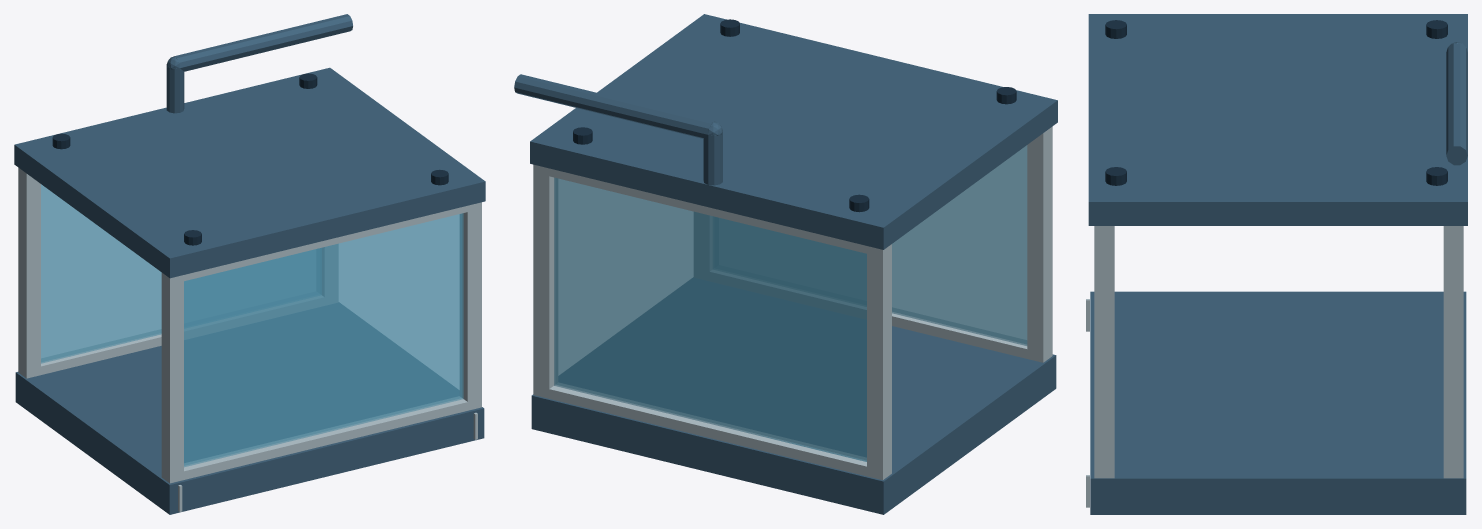
File: 10_L72_TransparentVacuumLoadLock.fbx
3 renders of one model, left to right at view 1: azimuth 30°, elevation 25°; view 2: azimuth 150°, elevation 25°; view 3: azimuth 270°, elevation 25°, orthographic. The views are drawn at different scales.
Parts seen in each view (by area): view 1: TransparentVacuumLoadLock; view 2: TransparentVacuumLoadLock; view 3: TransparentVacuumLoadLock.
Part boxes in pixels (x1,y1,x2,y2): TransparentVacuumLoadLock: (14, 14, 485, 514); TransparentVacuumLoadLock: (514, 14, 1057, 514); TransparentVacuumLoadLock: (1086, 14, 1467, 514).
Bounding box in the file's own units: 278 × 250 × 229.
